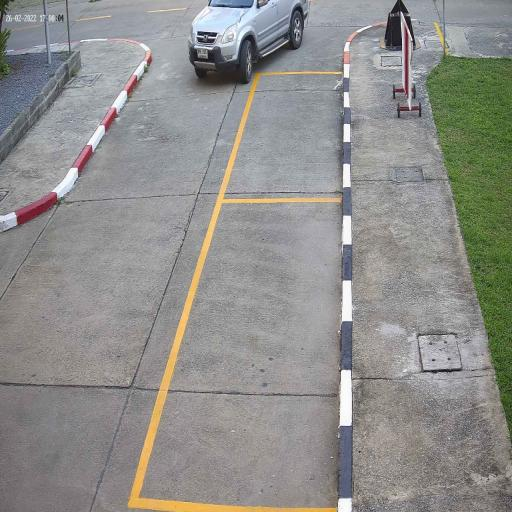car: (188, 0, 309, 84)
